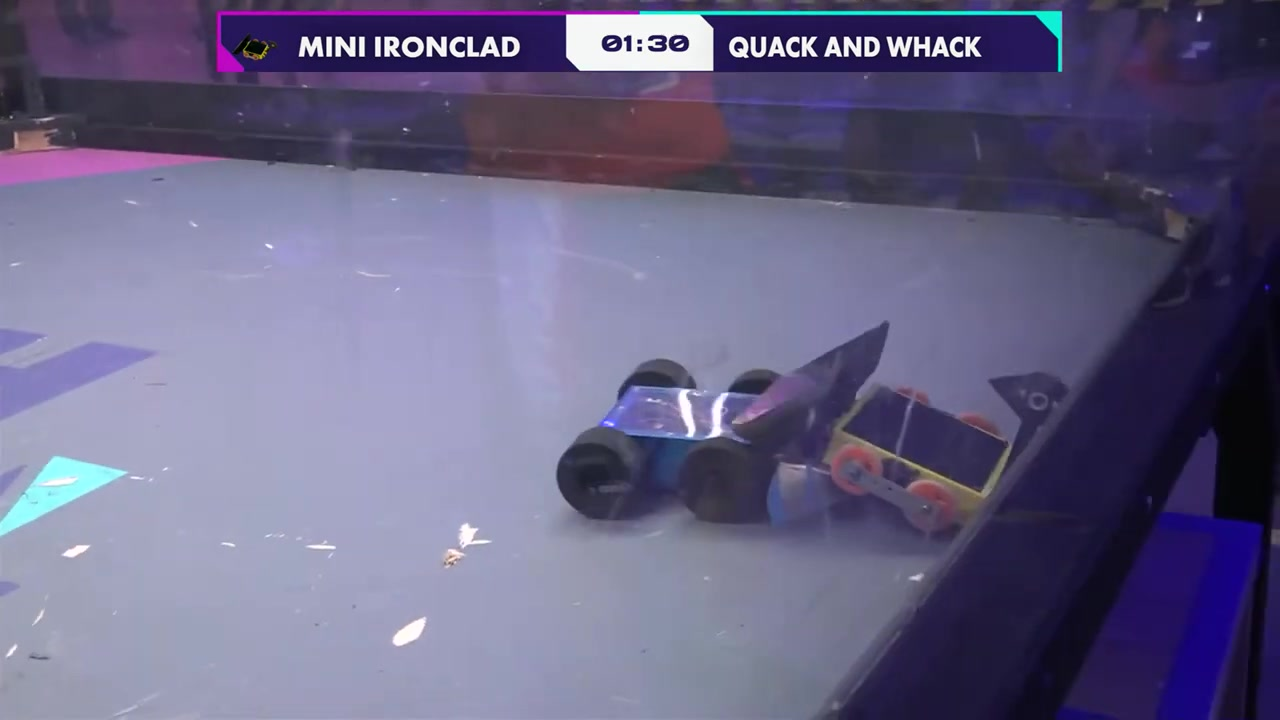combatbot: (556, 315, 886, 523), (834, 385, 1010, 538)
